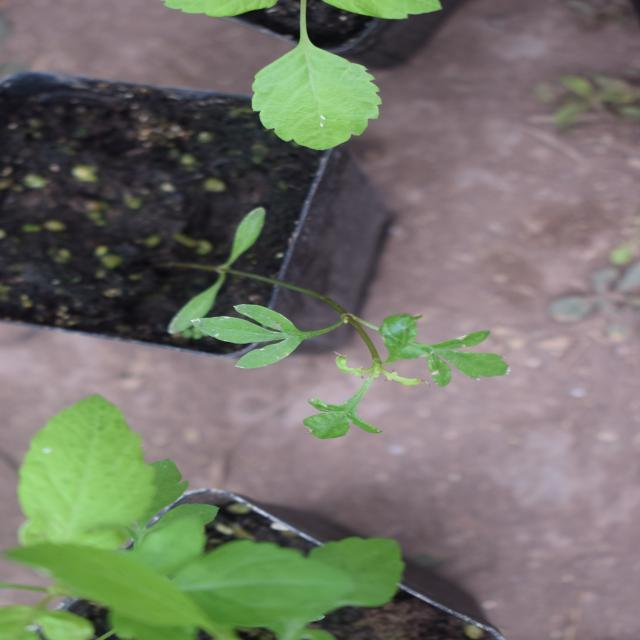Bidens pilosa: (184, 217, 404, 530)
